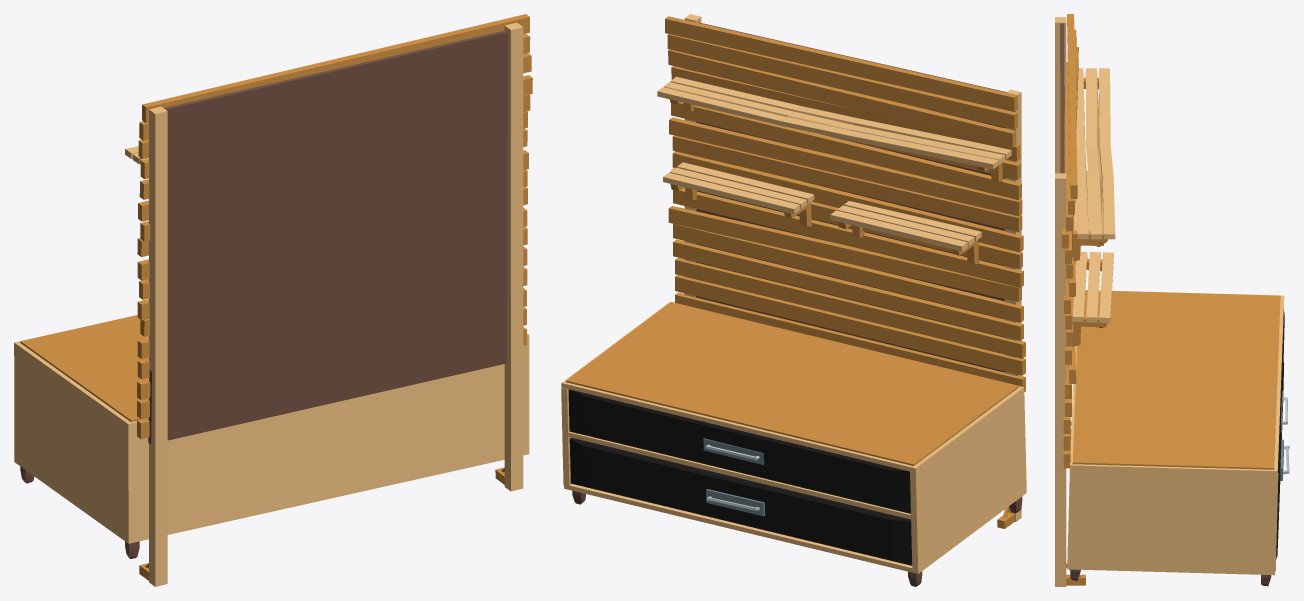
File: Cabinet.obj
3 renders of one model, left to right at view 1: azimuth 30°, elevation 25°; view 2: azimuth 150°, elevation 25°; view 3: azimuth 270°, elevation 25°, orthographic. The views are drawn at different scales.
Parts seen in each view (by area): view 1: group2015949752, group1210846258, group1261917229; view 2: group1210846258, group1261917229, group908110299, group771803549, group1356998999, group2015949752; view 3: group1210846258, group1261917229, group908110299, group771803549, group2015949752, group1356998999.
Part boxes in pixels (x1,y1,x2,y2): group2015949752: [148, 30, 507, 444]; group1210846258: [14, 315, 529, 558]; group1261917229: [137, 14, 532, 586]; group1210846258: [561, 302, 1026, 586]; group1261917229: [665, 14, 1025, 528]; group908110299: [657, 76, 1011, 181]; group771803549: [663, 162, 814, 226]; group1356998999: [830, 201, 981, 264]; group2015949752: [696, 22, 1018, 375]; group1210846258: [1067, 290, 1289, 586]; group1261917229: [1055, 14, 1085, 586]; group908110299: [1072, 68, 1115, 261]; group771803549: [1072, 251, 1113, 346]; group2015949752: [1060, 23, 1064, 173]; group1356998999: [1074, 170, 1107, 246].
Size of the model in its own units: 2.92 by 3.31 by 1.67.
